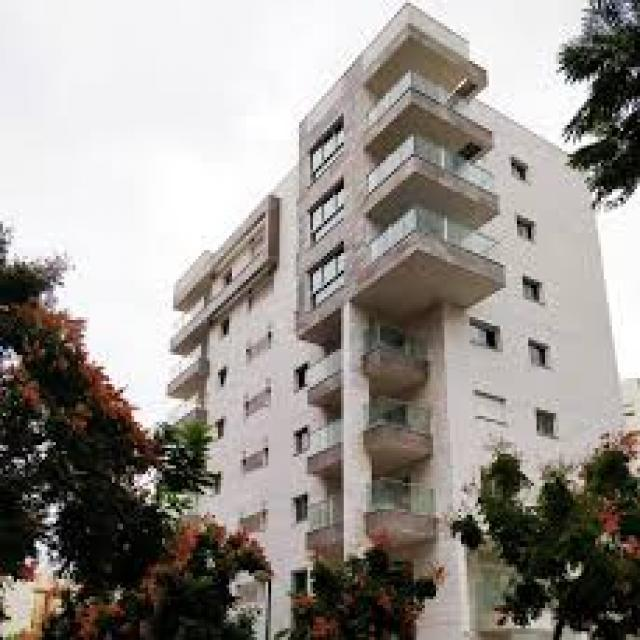Window: (310, 112, 351, 187), (304, 242, 346, 310), (304, 177, 344, 247), (470, 384, 510, 430), (467, 319, 509, 356), (245, 270, 278, 310), (238, 436, 272, 474), (532, 405, 560, 445), (518, 270, 546, 308), (236, 501, 266, 536), (244, 377, 270, 415), (528, 335, 554, 372), (244, 324, 272, 358), (518, 212, 544, 246), (507, 153, 532, 188), (202, 414, 228, 444), (212, 367, 232, 395), (202, 468, 222, 496), (290, 425, 308, 455), (294, 494, 309, 520), (218, 314, 232, 339), (296, 367, 310, 390)
